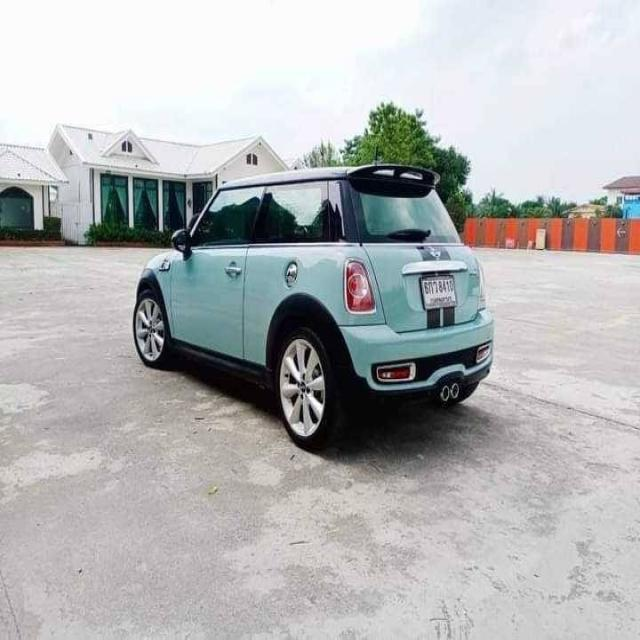license_plate: (418, 275, 458, 310)
